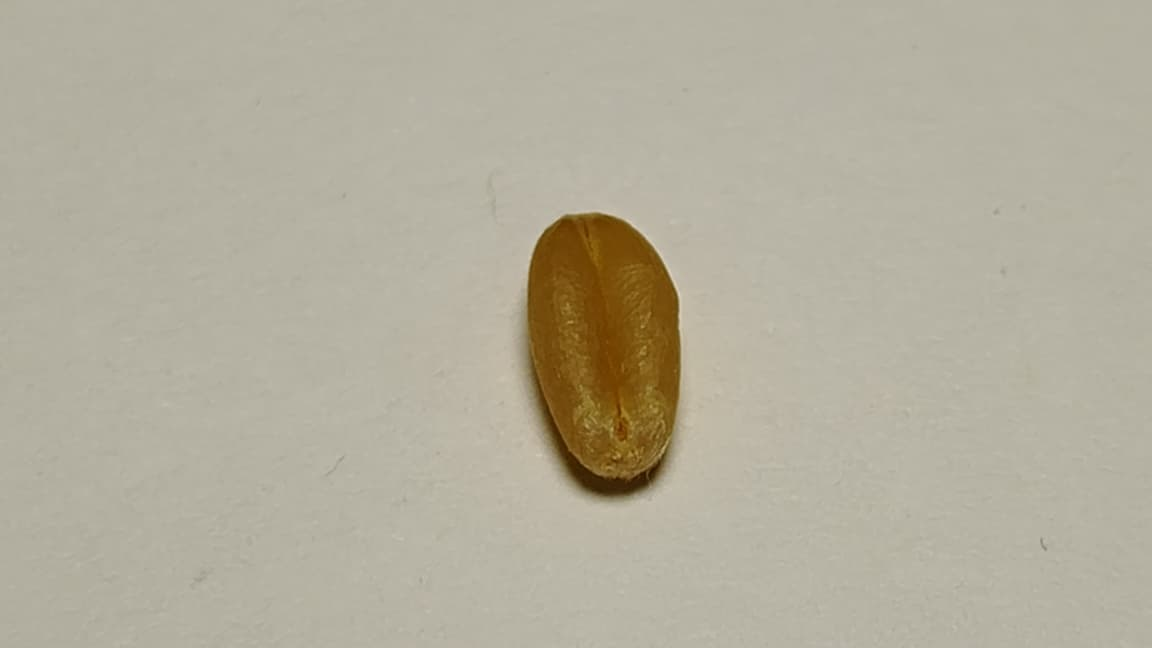healthy: (527, 213, 684, 488)
